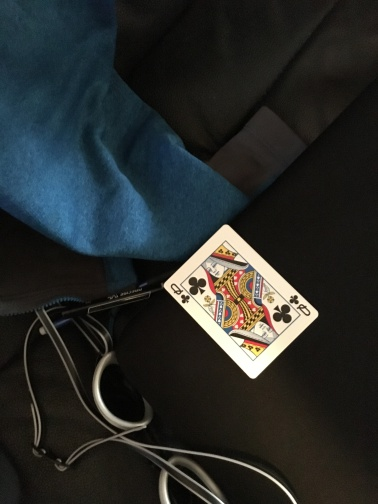queen: (163, 224, 320, 380)
